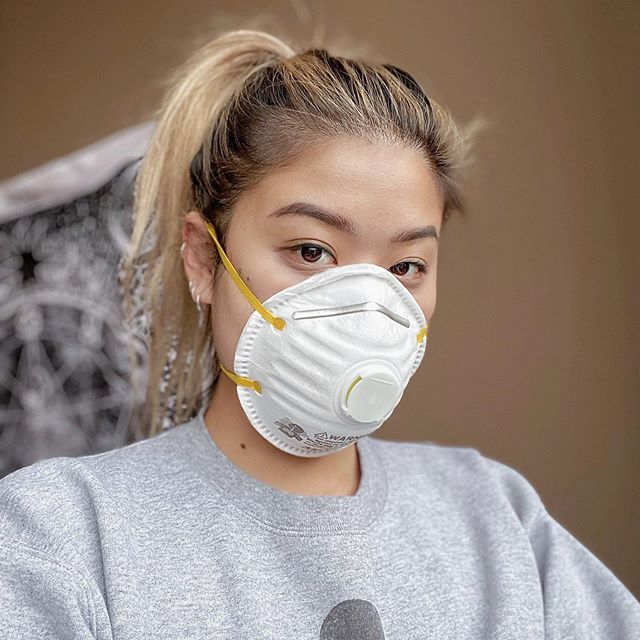n95: (226, 260, 439, 469)
